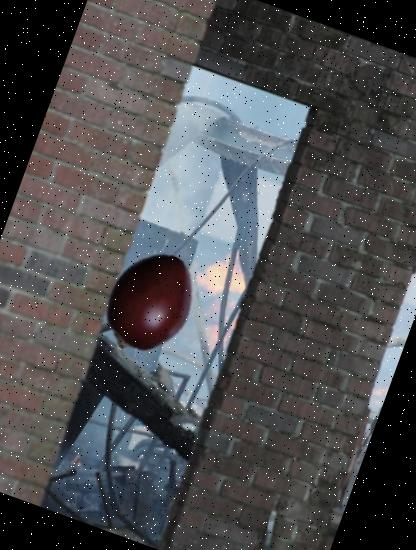Tamarillo: (79, 234, 219, 374)
